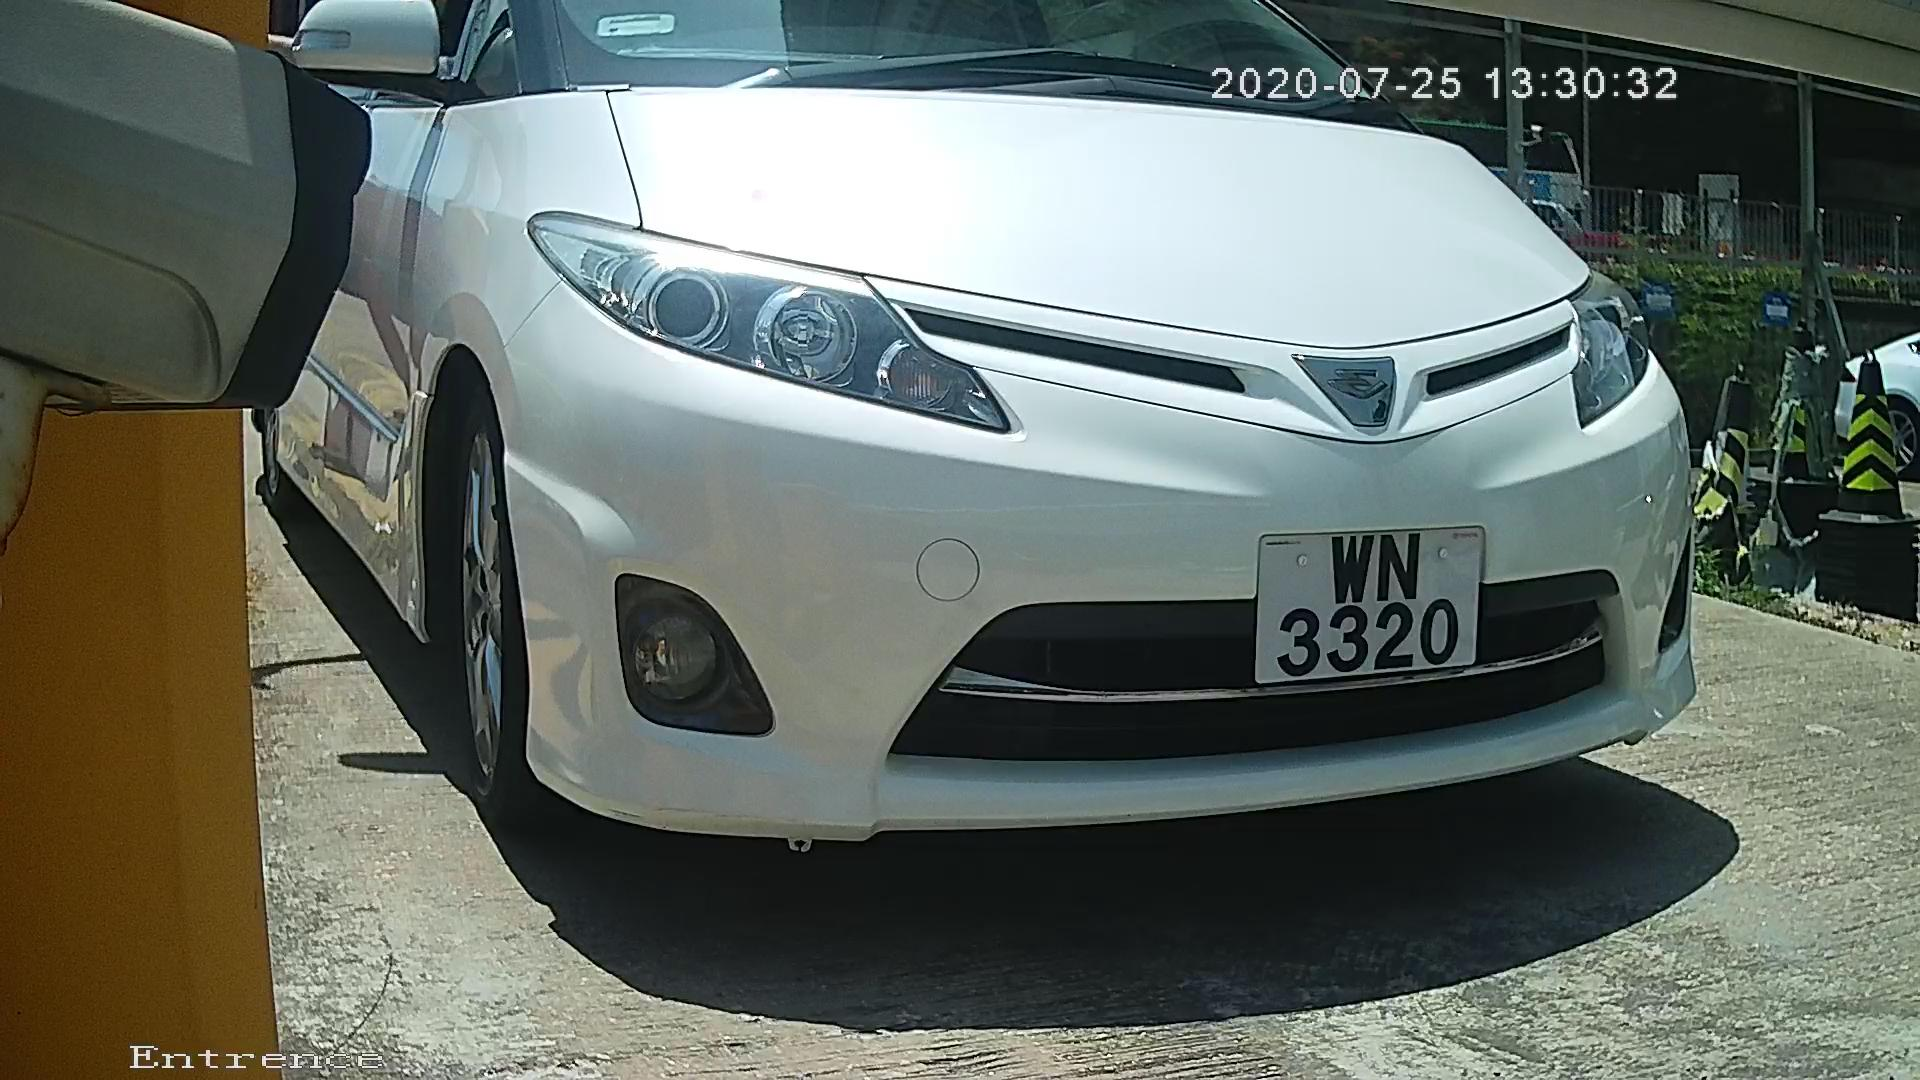License Plate: (1243, 502, 1509, 709)
